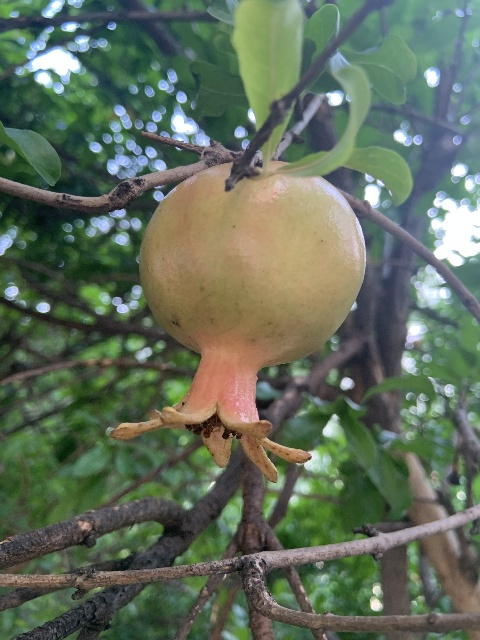mid-growth: (105, 159, 365, 483)
